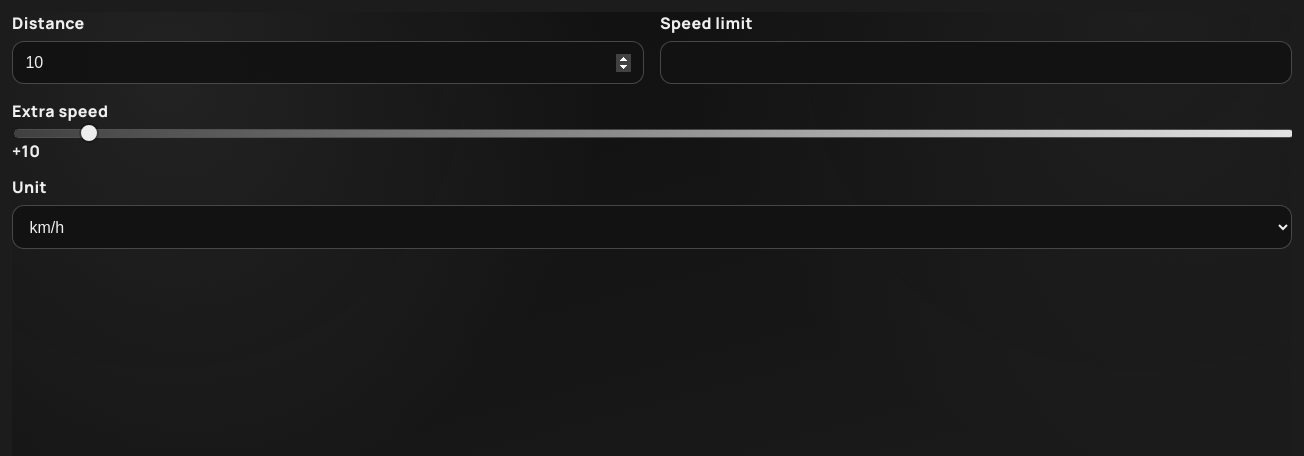
Test: SpeedCalculatorForm › shows exact saved time in seconds when gain is below one minute
The width and height of the screenshot is (1304, 456).
Replace the text in the number field labelled "Distance" with "5": (328, 62) [12,41,644,84]
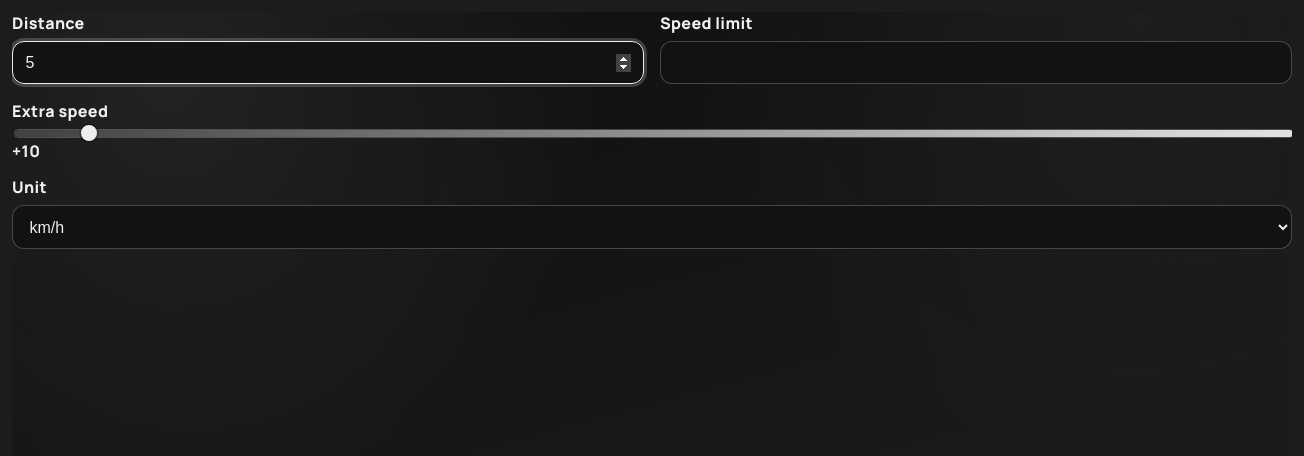
In the number field labelled "Speed limit": (976, 62) [660,41,1292,84], type "60"
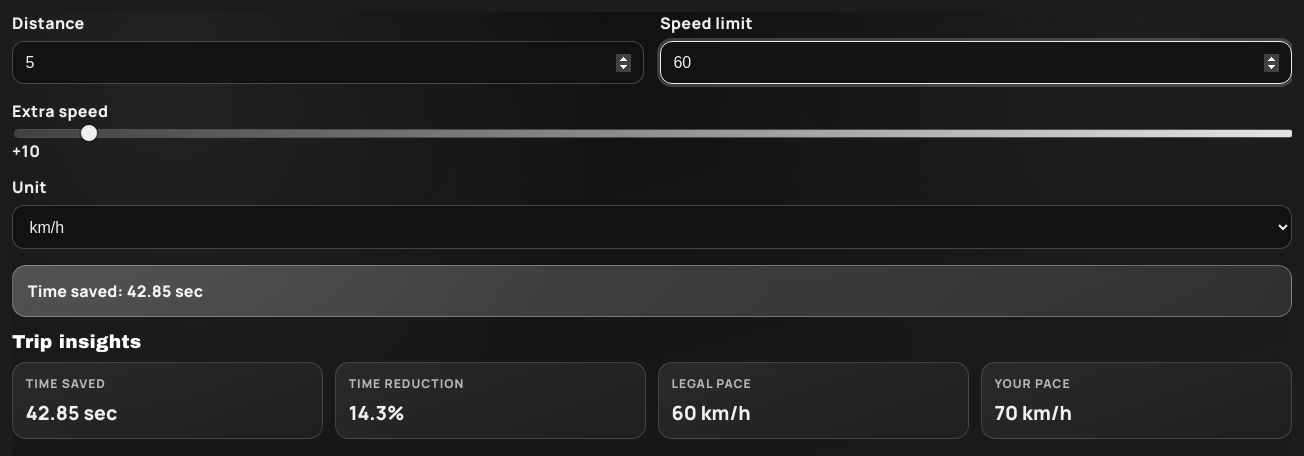
expect the text "Time saved: 42.85 sec" is shown: met, box [12,265,1292,317]
